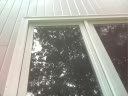window: (0, 7, 35, 96), (47, 79, 78, 96), (44, 41, 69, 55), (103, 88, 119, 96), (99, 60, 104, 67)
